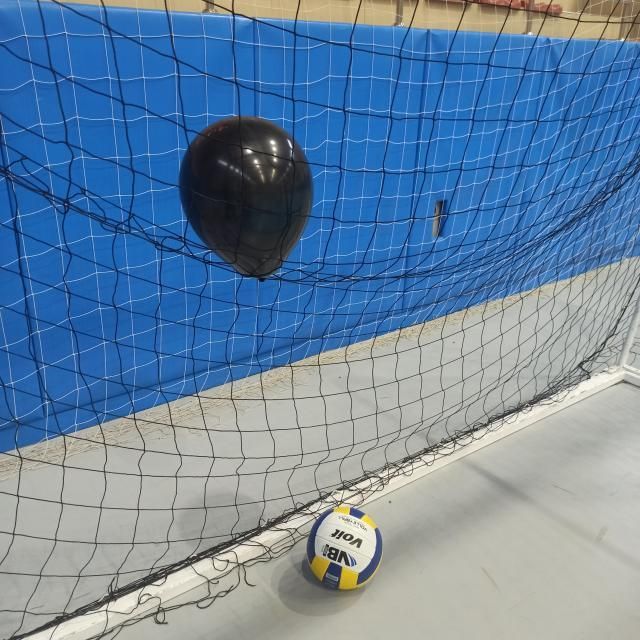balloon: (176, 116, 314, 277)
